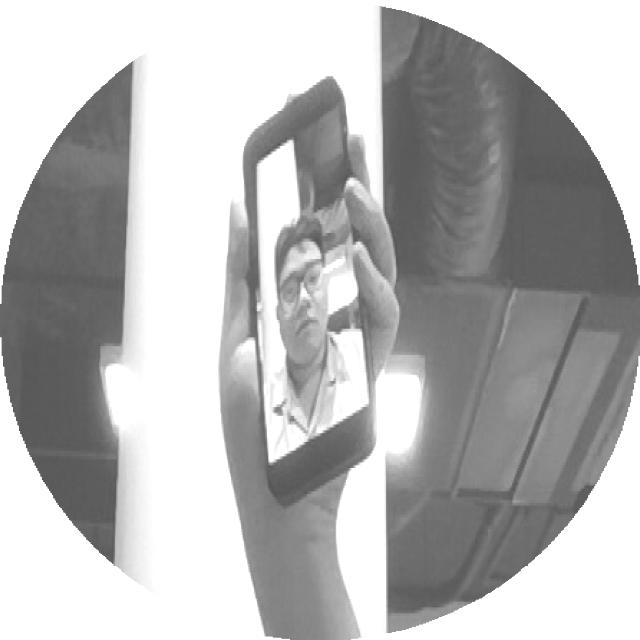fake: (193, 58, 457, 540), (225, 63, 417, 521)
